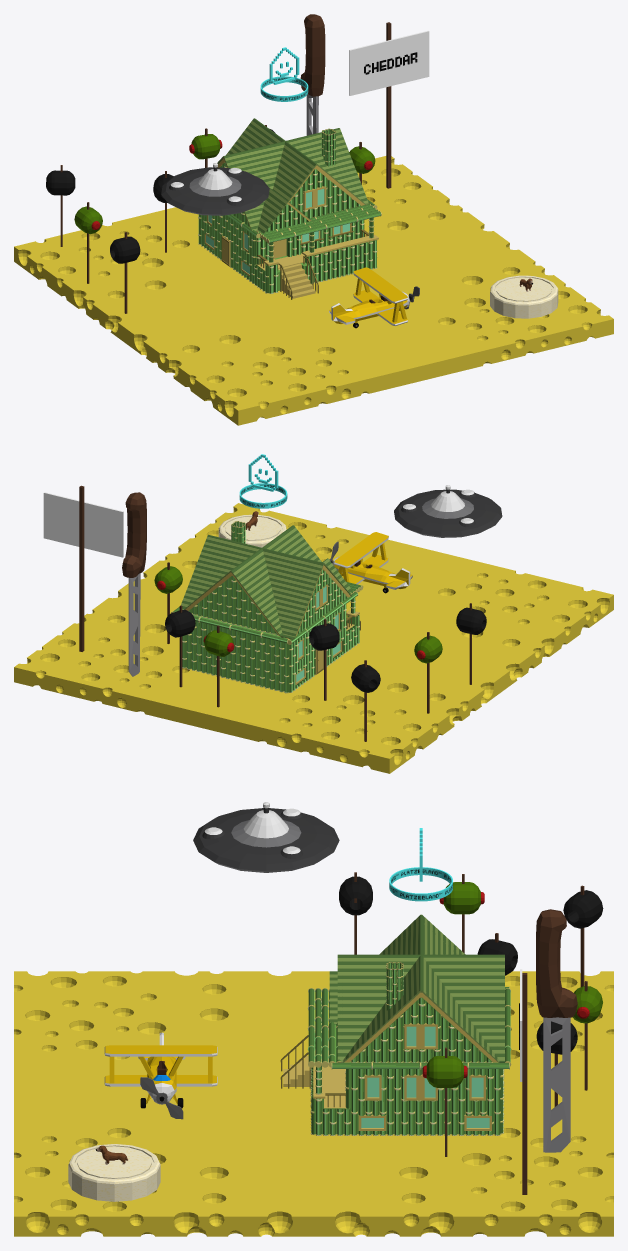
3 renders of one model, top to bottom at view 1: azimuth 30°, elevation 25°; view 2: azimuth 150°, elevation 25°; view 3: azimuth 270°, elevation 25°, orthographic. The views are drawn at different scales.
Visible parts, largest first — view 1: Cube.022, Cube.1327, Cube.023, OBJRANDOM_UFO, VEHICLES_AIRPLANE, Cylinder.016, Cube.024, TYPE_PREMIUM, Sphere.017, Sphere.016, Sphere.018, Sphere.022 (+1 smaller); view 2: Cube.022, Cube.1327, Cube.023, OBJRANDOM_UFO, Cube.024, VEHICLES_AIRPLANE, Cylinder.016, TYPE_PREMIUM, Sphere.021, Sphere.020, Sphere.017, Sphere.022 (+3 smaller); view 3: Cube.022, Cube.1327, OBJRANDOM_UFO, Cube.024, VEHICLES_AIRPLANE, Cylinder.016, Cube.023, Sphere.016, Sphere.019, TYPE_PREMIUM, Sphere.018, Sphere.017 (+3 smaller).
Part boxes in pixels (box(x1,y1,x2,y2)): Cube.022: box(14, 156, 613, 425); Cube.1327: box(198, 118, 381, 299); Cube.023: box(349, 22, 429, 188); OBJRANDOM_UFO: box(161, 163, 269, 215); VEHICLES_AIRPLANE: box(329, 267, 419, 328); Cylinder.016: box(490, 275, 558, 318); Cube.024: box(300, 14, 325, 135); TYPE_PREMIUM: box(260, 47, 308, 101); Sphere.017: box(110, 232, 140, 313); Sphere.016: box(46, 165, 75, 246); Sphere.018: box(74, 202, 102, 283); Sphere.022: box(189, 128, 222, 167); Cube.022: box(14, 503, 613, 773); Cube.1327: box(170, 521, 363, 693); Cube.023: box(43, 485, 123, 651); OBJRANDOM_UFO: box(394, 485, 502, 537); Cube.024: box(122, 492, 146, 676); VEHICLES_AIRPLANE: box(329, 532, 412, 593); Cylinder.016: box(218, 514, 286, 547); TYPE_PREMIUM: box(239, 454, 287, 508); Sphere.021: box(165, 605, 195, 687); Sphere.020: box(309, 619, 339, 700); Sphere.017: box(456, 603, 486, 684); Sphere.022: box(203, 625, 234, 707); Cube.022: box(14, 971, 613, 1236); Cube.1327: box(280, 914, 511, 1135); OBJRANDOM_UFO: box(193, 802, 339, 872); Cube.024: box(536, 909, 577, 1152); VEHICLES_AIRPLANE: box(104, 1032, 217, 1119); Cylinder.016: box(68, 1144, 160, 1201); Cube.023: box(519, 969, 527, 1194); Sphere.016: box(563, 885, 603, 986); Sphere.019: box(422, 1047, 467, 1156); TYPE_PREMIUM: box(389, 828, 452, 901); Sphere.018: box(439, 874, 484, 952); Sphere.017: box(339, 872, 372, 954).
Bounding box in the file's own units: 3917 × 2247 × 4000.
Materials: 38 (6 with a texture image).
